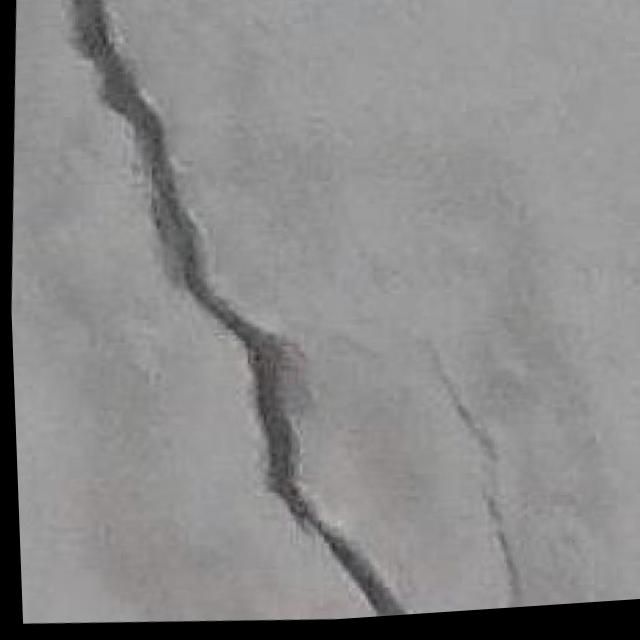Crack: (29, 0, 470, 638)
